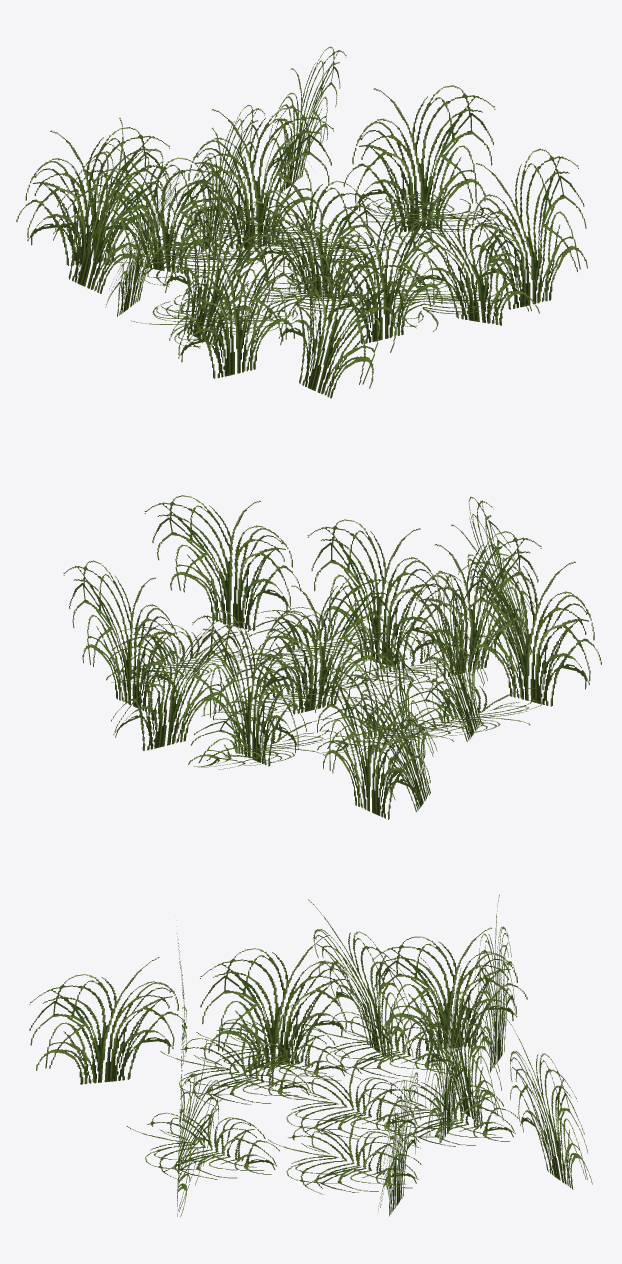
File: group_grs01.glb
3 views of the same model, one above another, from view 1: azimuth 30°, elevation 25°; view 2: azimuth 150°, elevation 25°; view 3: azimuth 270°, elevation 25° (orthographic). The views are drawn at different scales.
Visible parts, largest first — view 1: group_grs01; view 2: group_grs01; view 3: group_grs01.
Boxes of the visible parts, box(x1,y1,x2,y2) form: group_grs01: box(16, 46, 587, 398); group_grs01: box(63, 495, 601, 819); group_grs01: box(29, 894, 592, 1217).
Size of the model in its own units: 4.08 by 1.34 by 4.55.
Materials: 1 (1 with a texture image).
